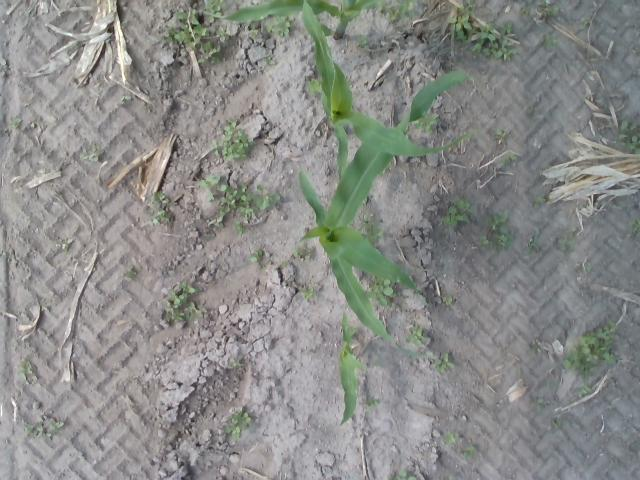Maize: (297, 70, 467, 357), (300, 2, 472, 180), (200, 0, 378, 40), (340, 310, 364, 426)
Weeds: (564, 320, 616, 372), (470, 23, 518, 60), (219, 182, 253, 219), (222, 122, 254, 159), (177, 8, 199, 48), (254, 184, 280, 210), (619, 120, 640, 152), (448, 12, 471, 40), (368, 284, 394, 306), (382, 0, 412, 19), (198, 42, 221, 64), (497, 224, 515, 250), (272, 15, 292, 38), (418, 112, 440, 132), (160, 28, 187, 44), (444, 206, 464, 227), (406, 324, 424, 347), (204, 0, 222, 22), (434, 353, 454, 372), (558, 229, 576, 250), (488, 211, 506, 230), (295, 243, 314, 260), (365, 226, 382, 244), (152, 192, 170, 208), (200, 174, 220, 188), (185, 302, 202, 318), (526, 235, 540, 253), (216, 24, 230, 42), (232, 411, 250, 425), (306, 78, 321, 94), (194, 23, 210, 38), (171, 290, 186, 306), (20, 360, 32, 380), (454, 196, 471, 210), (167, 308, 184, 322), (302, 286, 318, 300), (81, 146, 97, 160), (541, 3, 559, 15), (56, 238, 74, 250), (396, 470, 417, 480), (226, 426, 240, 441), (152, 209, 168, 222), (181, 282, 198, 294), (530, 398, 544, 412), (124, 268, 138, 282), (38, 422, 52, 436), (363, 397, 381, 407), (211, 140, 222, 156), (210, 216, 224, 228), (248, 250, 262, 262), (250, 24, 260, 39), (580, 385, 592, 397), (442, 433, 458, 442), (546, 34, 556, 48), (231, 358, 245, 368), (50, 422, 64, 432), (500, 152, 514, 162), (630, 220, 640, 234), (533, 198, 547, 208), (465, 446, 477, 457), (10, 117, 22, 128), (476, 236, 489, 246), (522, 4, 532, 17), (532, 343, 540, 358), (263, 57, 276, 66), (236, 220, 244, 234), (582, 16, 592, 26), (443, 296, 452, 305), (266, 23, 274, 33), (551, 420, 560, 428), (122, 96, 132, 103), (496, 131, 506, 138), (26, 424, 34, 432), (281, 260, 288, 269), (208, 193, 215, 202), (1, 59, 8, 66)
